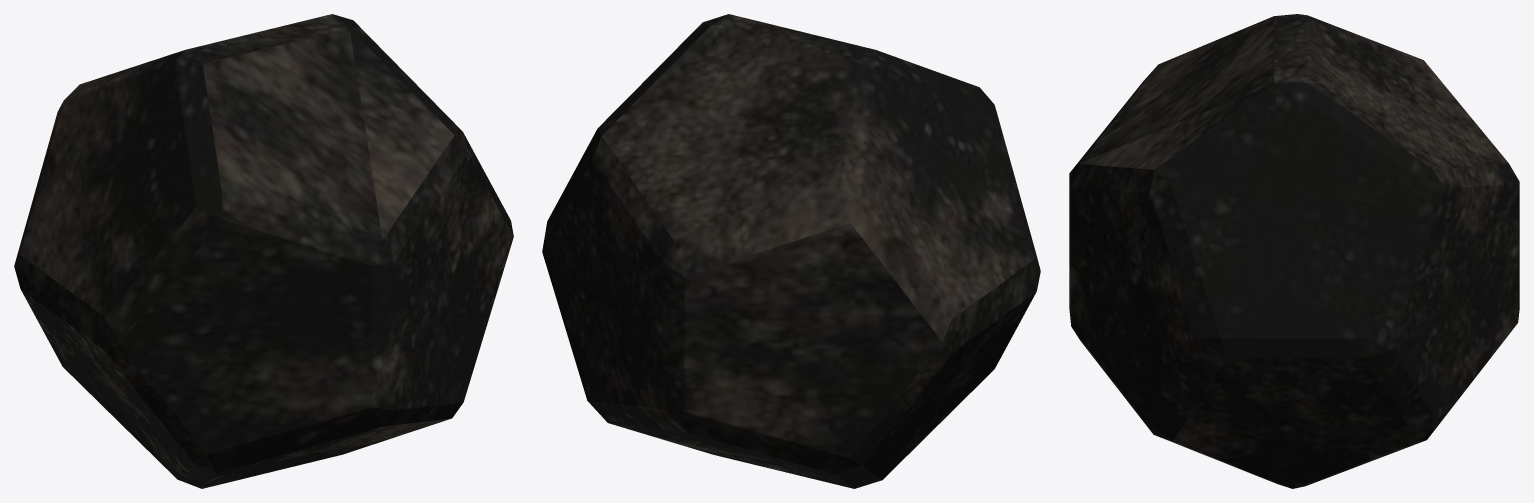
3 renders of one model, left to right at view 1: azimuth 30°, elevation 25°; view 2: azimuth 150°, elevation 25°; view 3: azimuth 270°, elevation 25°, orthographic. The views are drawn at different scales.
Visible parts, largest first — view 1: d12; view 2: d12; view 3: d12.
Boxes of the visible parts, x1,y1,x2,y2 form: d12: [14, 14, 513, 488]; d12: [542, 14, 1040, 488]; d12: [1069, 14, 1519, 488].
Bounding box in the file's own units: 161 × 160 × 162.
1 material, 1 textured.
